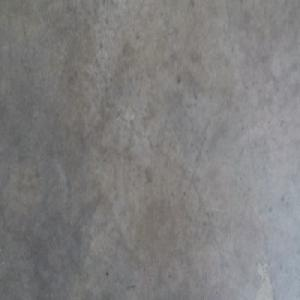Pliers: (189, 292, 200, 299)
